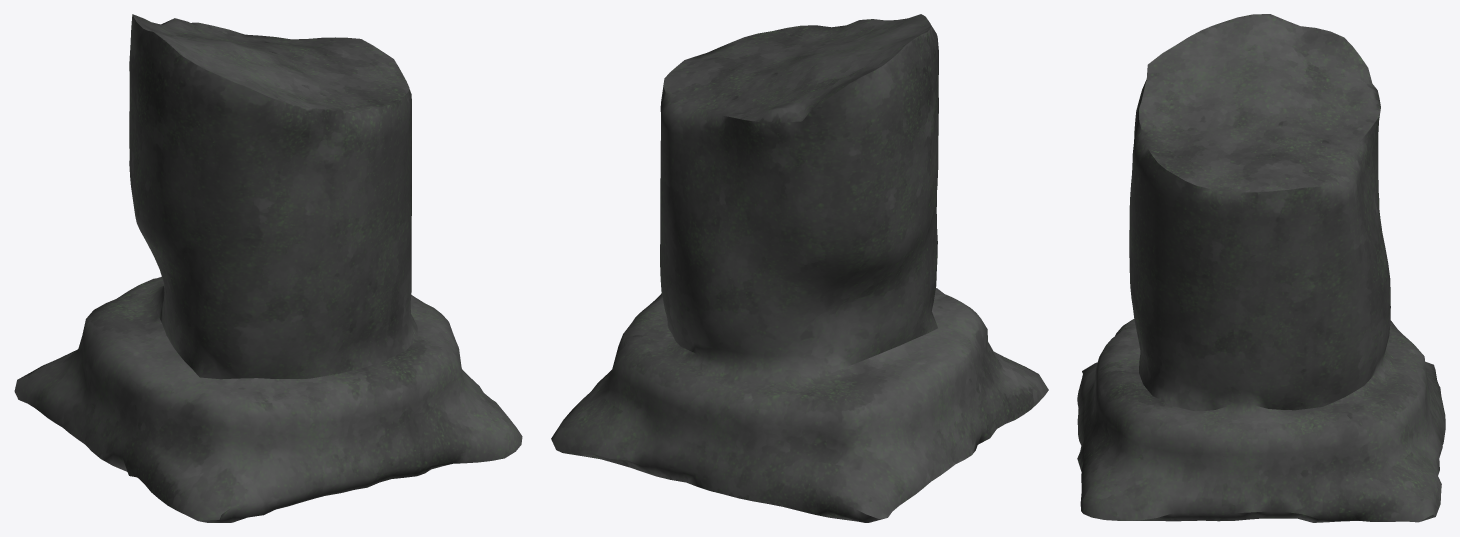
File: Stone Pillar - Broken Base 1 (Game Ready).fbx
3 renders of one model, left to right at view 1: azimuth 30°, elevation 25°; view 2: azimuth 150°, elevation 25°; view 3: azimuth 270°, elevation 25°, orthographic. The views are drawn at different scales.
Visible parts, largest first — view 1: Stone Pillar - Broken Base 1; view 2: Stone Pillar - Broken Base 1; view 3: Stone Pillar - Broken Base 1.
Part boxes in pixels (box(x1,y1,x2,y2)): Stone Pillar - Broken Base 1: box(14, 14, 522, 522); Stone Pillar - Broken Base 1: box(551, 14, 1048, 522); Stone Pillar - Broken Base 1: box(1077, 14, 1445, 522).
Size of the model in its own units: 112 by 129 by 111.
Materials: 1 (1 with a texture image).
